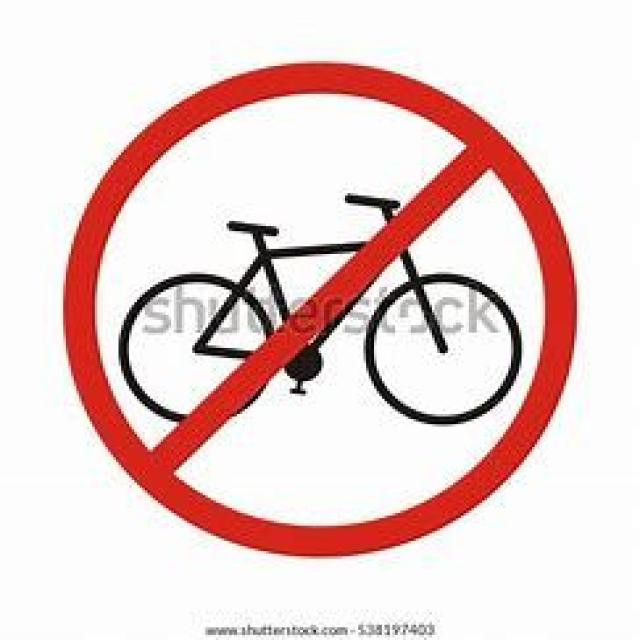cycle_prohibited: (61, 61, 576, 554)
